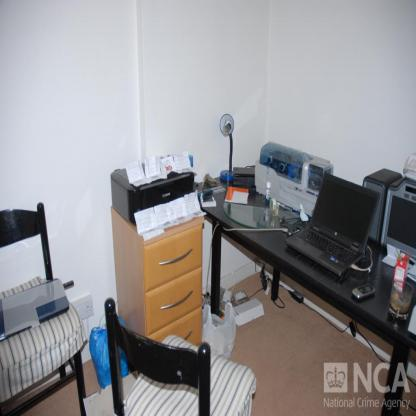board: (284, 169, 379, 278), (1, 280, 70, 339), (393, 251, 410, 293)
